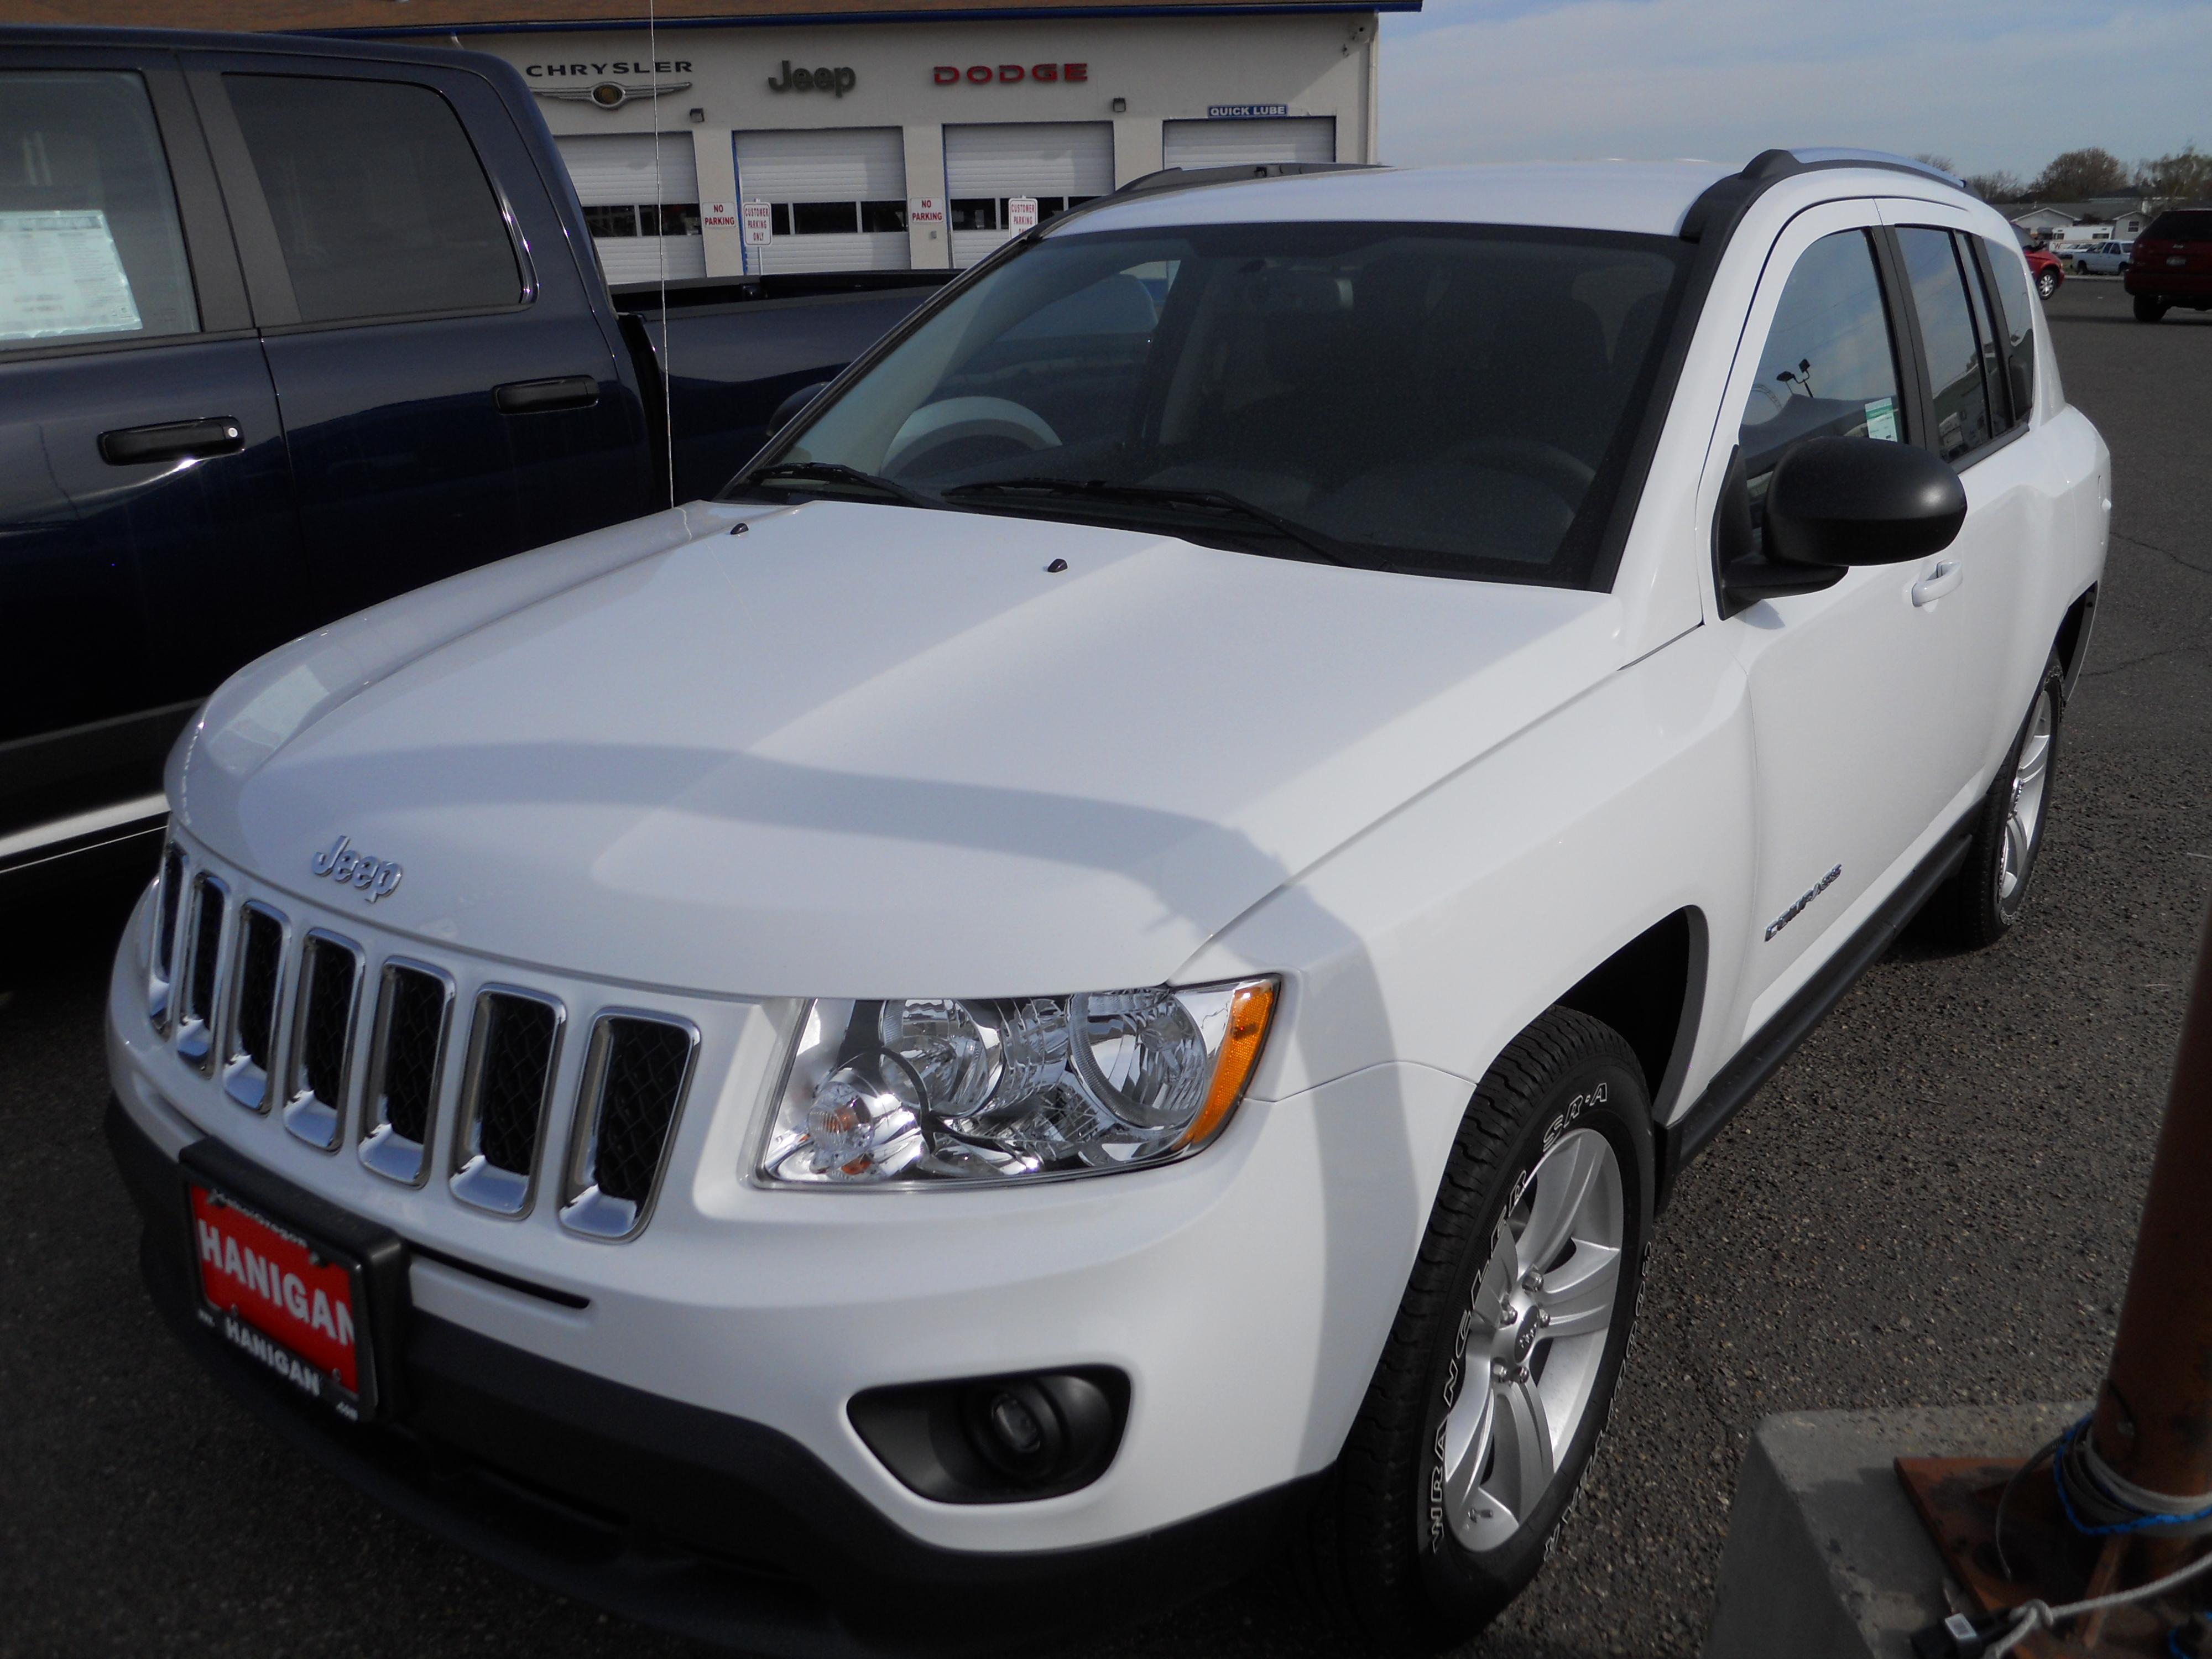jeep: (260, 780, 487, 946)
